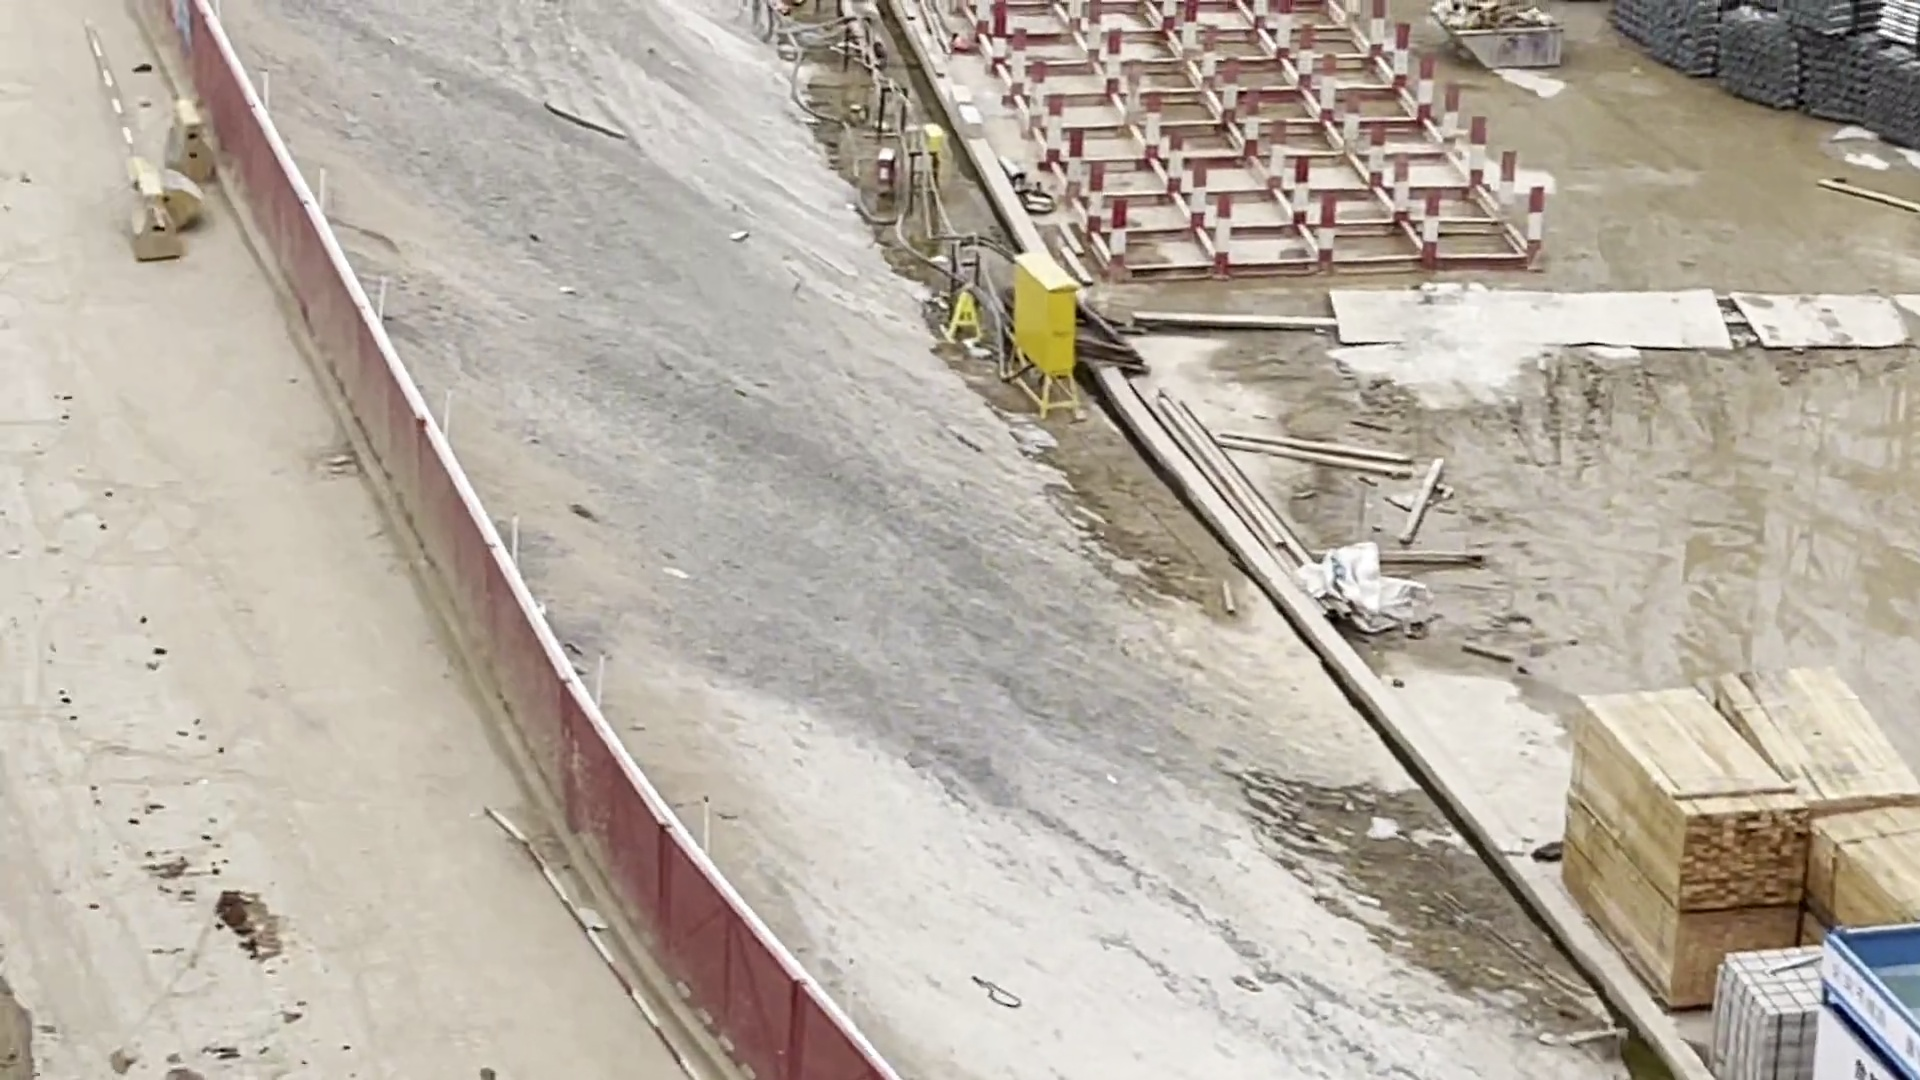brick: (1702, 927, 1828, 1080)
ebox: (996, 243, 1087, 434)
fence: (142, 5, 462, 555), (400, 483, 669, 963), (647, 820, 905, 1080)
hopper: (1425, 1, 1576, 74)
scaffold: (1602, 4, 1920, 152)
slogan: (1804, 932, 1920, 1077)
wood: (1531, 603, 1920, 996)
